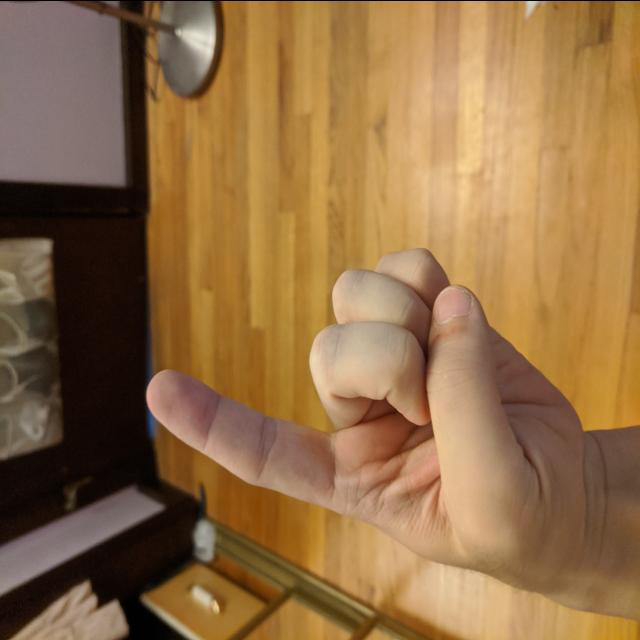D: (142, 236, 592, 606)
